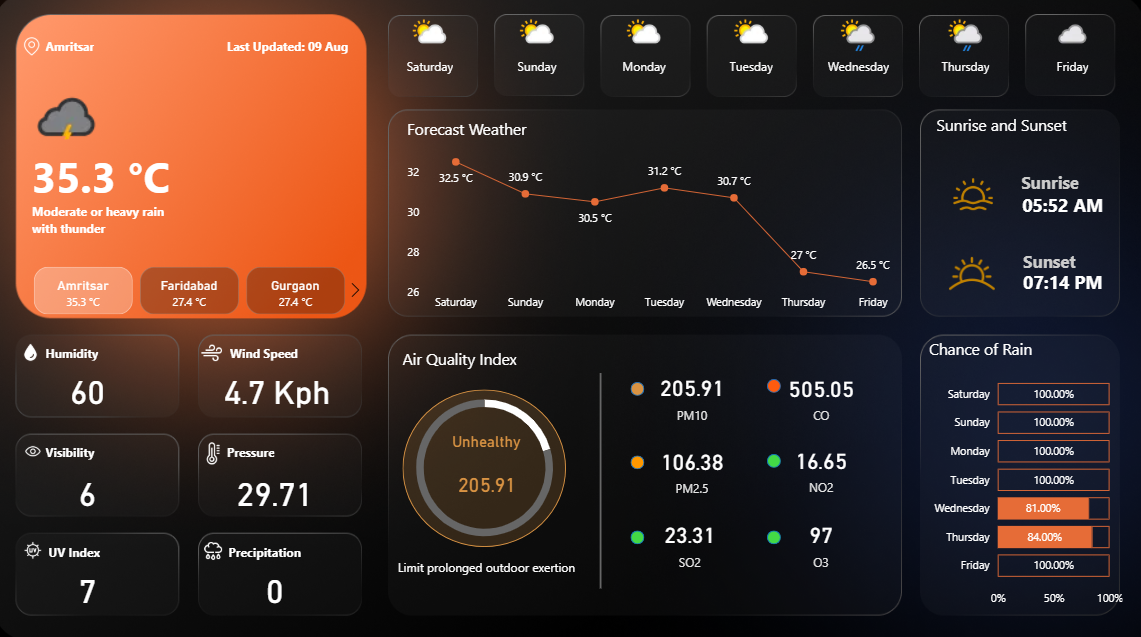

The page's visual inventory and layout, read from the dashboard file:
{"tool":"powerbi","page":{"name":"Page 1","canvas":[1280,720],"ordinal":0},"visuals":[{"type":"shape","box":[455,438.3,181.7,175],"z":0},{"type":"advancedSlicerVisual","fields":{"Values":["Location.location.name"]},"box":[19.5,295.9,398.3,63.4],"z":1000},{"type":"shape","box":[43.9,138.2,235.7,123.6],"z":2000},{"type":"shape","box":[43.9,187,177.2,125.2],"z":3000},{"type":"shape","box":[59.1,25.6,137.4,62.3],"z":4000},{"type":"shape","box":[260.1,34.1,160.9,45.5],"z":5000},{"type":"image","box":[22.4,41.5,43.1,30.4],"z":6000},{"type":"cardVisual","fields":{"Data":["Min(Current.current.condition.icon)"]},"box":[14.6,73.2,118.7,92.7],"z":7000},{"type":"shape","box":[59.1,375.5,161.4,44.7],"z":8000},{"type":"image","box":[22.4,381.8,39.9,30.4],"z":9000},{"type":"image","box":[22.4,492.1,44.7,30.4],"z":10000},{"type":"shape","box":[59.1,485.7,161.4,44.7],"z":11000},{"type":"image","box":[22.4,602.3,44.7,30.4],"z":12000},{"type":"shape","box":[62.3,595.9,161.4,44.7],"z":13000},{"type":"image","box":[223.7,380.2,39.9,35.1],"z":14000},{"type":"image","box":[225.3,492.1,39.9,35.1],"z":15000},{"type":"image","box":[225.3,600.7,39.9,35.1],"z":16000},{"type":"shape","box":[263.6,375.5,161.4,44.7],"z":17000},{"type":"shape","box":[260.4,485.7,161.4,44.7],"z":18000},{"type":"shape","box":[262,595.9,161.4,44.7],"z":19000},{"type":"card","fields":{"Values":["Sum(Current.current.humidity)"]},"box":[45.5,412.9,118.7,50.4],"z":20000},{"type":"card","fields":{"Values":["_Measure.Wind_Speed"]},"box":[226,412.9,177.2,50.4],"z":21000},{"type":"card","fields":{"Values":["Sum(Current.current.vis_km)"]},"box":[45.5,523.5,118.7,55.3],"z":22000},{"type":"card","fields":{"Values":["Sum(Current.current.pressure_in)"]},"box":[253.6,523.5,118.7,55.3],"z":23000},{"type":"card","fields":{"Values":["Sum(Current.current.uv)"]},"box":[45.5,632.4,118.7,55.3],"z":24000},{"type":"card","fields":{"Values":["Sum(Current.current.precip_mm)"]},"box":[253.6,632.4,118.7,55.3],"z":25000},{"type":"advancedSlicerVisual","fields":{"Values":["Forecast_Day.Day_Name"]},"box":[424.3,14.6,835.6,105.7],"z":26000},{"type":"lineChart","title":"Forecast Weather","fields":{"Y":["Sum(Forecast_Day.forecast.forecastday.day.avgtemp_c)"],"Category":["Forecast_Day.Day_Name"]},"box":[455.6,137,558.4,222.7],"z":27000},{"type":"shape","box":[1048.1,121.4,161.4,44.7],"z":28000},{"type":"shape","box":[1105.6,186.9,139,41.5],"z":29000},{"type":"shape","box":[1108.8,274.8,131,41.5],"z":30000},{"type":"shape","box":[1116.8,212.5,143.8,43.1],"z":31000},{"type":"shape","box":[1120,295.6,137.4,47.9],"z":32000},{"type":"image","box":[1060.9,193.3,54.3,55.9],"z":33000},{"type":"image","box":[1048.1,260.4,78.3,99.1],"z":34000},{"type":"hundredPercentStackedBarChart","title":"Chance of Rain","fields":{"Category":["Forecast_Day.Day_Name"],"Y":["Sum(Forecast_Day.forecast.forecastday.day.daily_chance_of_rain)","Current.Left_value_rain"]},"box":[1035.3,381.8,225.3,306.8],"z":35000},{"type":"shape","box":[455.3,381.8,174.1,44.7],"z":36000},{"type":"card","fields":{"Values":["Sum(Current.current.air_quality.co)"]},"box":[868.5,404.3,103.2,81.5],"z":37000},{"type":"card","fields":{"Values":["Sum(Current.current.air_quality.no2)"]},"box":[868.5,485.8,103.2,81.5],"z":38000},{"type":"card","fields":{"Values":["Sum(Current.current.air_quality.o3)"]},"box":[868.4,568.6,102.8,80.5],"z":39000},{"type":"card","fields":{"Values":["Sum(Current.current.air_quality.pm10)"]},"box":[724.5,404.2,102.8,80.5],"z":40000},{"type":"card","fields":{"Values":["Sum(Current.current.air_quality.pm2_5)"]},"box":[724.5,486.4,102.8,80.5],"z":41000},{"type":"card","fields":{"Values":["Sum(Current.current.air_quality.so2)"]},"box":[724.5,568.6,97.6,80.5],"z":42000},{"type":"shape","box":[709.1,429.9,15.4,15.4],"z":43000},{"type":"shape","box":[859.8,426.5,15.4,15.4],"z":44000},{"type":"shape","box":[709.1,512.1,15.4,15.4],"z":45000},{"type":"shape","box":[709.1,594.3,15.4,15.4],"z":46000},{"type":"shape","box":[859.8,510.4,15.4,15.4],"z":47000},{"type":"shape","box":[859.8,594.3,15.4,15.4],"z":48000},{"type":"shape","box":[600.7,420.2,150.2,239.7],"z":49000},{"type":"card","fields":{"Values":["Sum(Current.current.air_quality.pm10)"]},"box":[493.3,486.7,110,95],"z":50000},{"type":"donutChart","fields":{"Y":["Sum(Current.current.air_quality.pm10)","_Measure.left_value_PM10"]},"box":[441.7,425,208.3,200],"z":51000},{"type":"shape","box":[443.3,608.3,210,53.3],"z":51001}]}

Visuals, with their boxes in screenshot pixels (x1, y1, x2, y2), scaled from the page's 1280x720 canvas onto the 1141x637 screenshot:
shape: <box>406,388,568,543</box>
advancedSlicerVisual - Location.location.name: <box>17,262,372,318</box>
shape: <box>39,122,249,232</box>
shape: <box>39,165,197,276</box>
shape: <box>53,23,175,78</box>
shape: <box>232,30,375,70</box>
image: <box>20,37,58,64</box>
cardVisual - Min(Current.current.condition.icon): <box>13,65,119,147</box>
shape: <box>53,332,197,372</box>
image: <box>20,338,56,365</box>
image: <box>20,435,60,462</box>
shape: <box>53,430,197,469</box>
image: <box>20,533,60,560</box>
shape: <box>56,527,199,567</box>
image: <box>199,336,235,367</box>
image: <box>201,435,236,466</box>
image: <box>201,531,236,563</box>
shape: <box>235,332,379,372</box>
shape: <box>232,430,376,469</box>
shape: <box>234,527,377,567</box>
card - Sum(Current.current.humidity): <box>41,365,146,410</box>
card - _Measure.Wind_Speed: <box>201,365,359,410</box>
card - Sum(Current.current.vis_km): <box>41,463,146,512</box>
card - Sum(Current.current.pressure_in): <box>226,463,332,512</box>
card - Sum(Current.current.uv): <box>41,559,146,608</box>
card - Sum(Current.current.precip_mm): <box>226,559,332,608</box>
advancedSlicerVisual - Forecast_Day.Day_Name: <box>378,13,1123,106</box>
"Forecast Weather" lineChart: <box>406,121,904,318</box>
shape: <box>934,107,1078,147</box>
shape: <box>986,165,1109,202</box>
shape: <box>988,243,1105,280</box>
shape: <box>996,188,1124,226</box>
shape: <box>998,262,1121,304</box>
image: <box>946,171,994,220</box>
image: <box>934,230,1004,318</box>
"Chance of Rain" hundredPercentStackedBarChart: <box>923,338,1124,609</box>
shape: <box>406,338,561,377</box>
card - Sum(Current.current.air_quality.co): <box>774,358,866,430</box>
card - Sum(Current.current.air_quality.no2): <box>774,430,866,502</box>
card - Sum(Current.current.air_quality.o3): <box>774,503,866,574</box>
card - Sum(Current.current.air_quality.pm10): <box>646,358,737,429</box>
card - Sum(Current.current.air_quality.pm2_5): <box>646,430,737,502</box>
card - Sum(Current.current.air_quality.so2): <box>646,503,733,574</box>
shape: <box>632,380,646,394</box>
shape: <box>766,377,780,391</box>
shape: <box>632,453,646,467</box>
shape: <box>632,526,646,539</box>
shape: <box>766,452,780,465</box>
shape: <box>766,526,780,539</box>
shape: <box>535,372,669,584</box>
card - Sum(Current.current.air_quality.pm10): <box>440,431,538,515</box>
donutChart - Sum(Current.current.air_quality.pm10) x _Measure.left_value_PM10: <box>394,376,579,553</box>
shape: <box>395,538,582,585</box>
